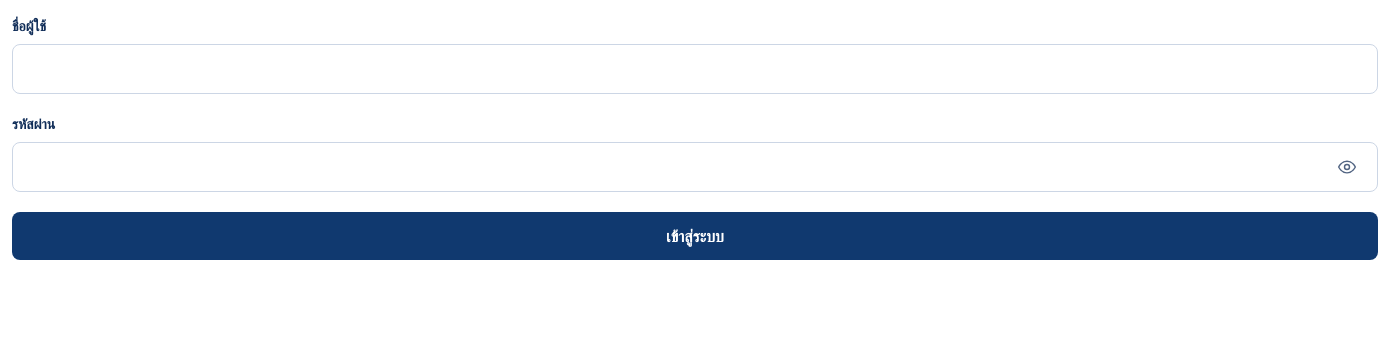
Test: keeps hospital controls absent while discovery is pending or fails
Type " synthetic-user " into the field labelled "ชื่อผู้ใช้" at x=695, y=69, box [27,45,1363,93]
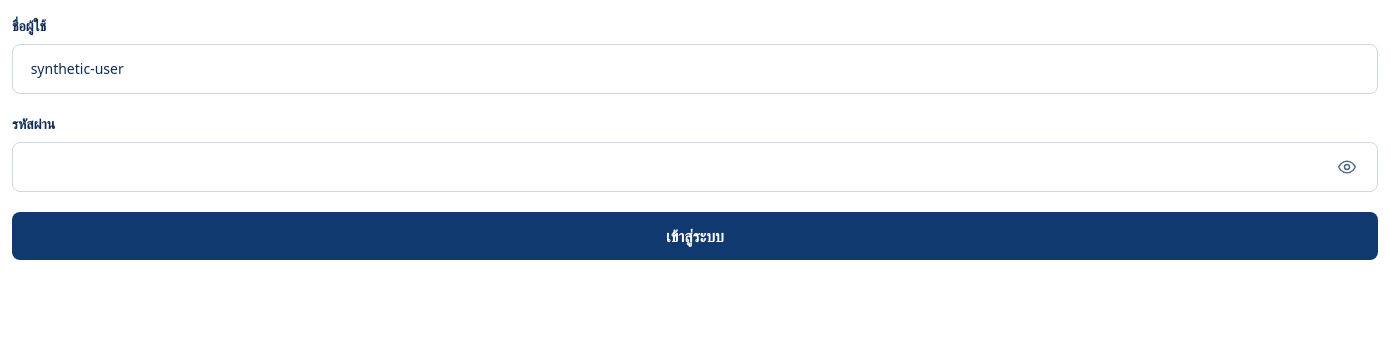
Type "synthetic-password" into the password field labelled "รหัสผ่าน" at x=673, y=167, box [27,143,1319,191]
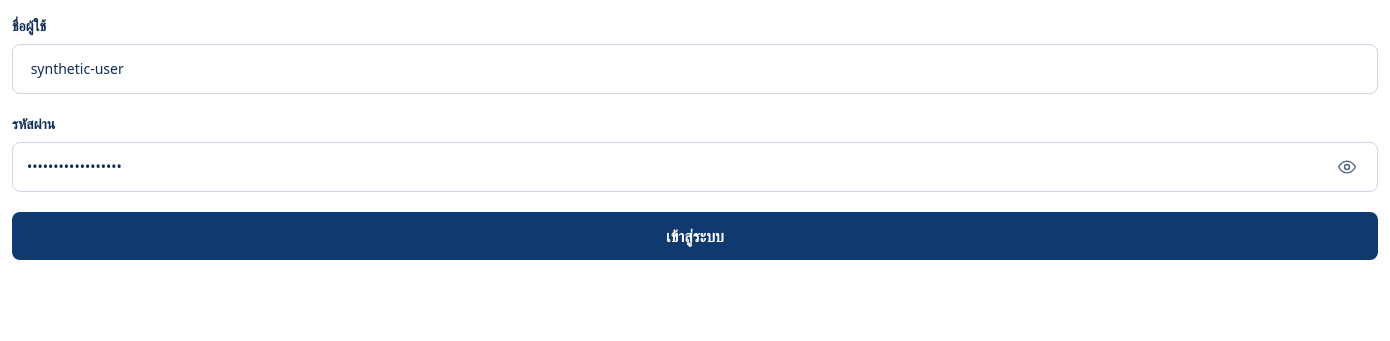
Submit the form
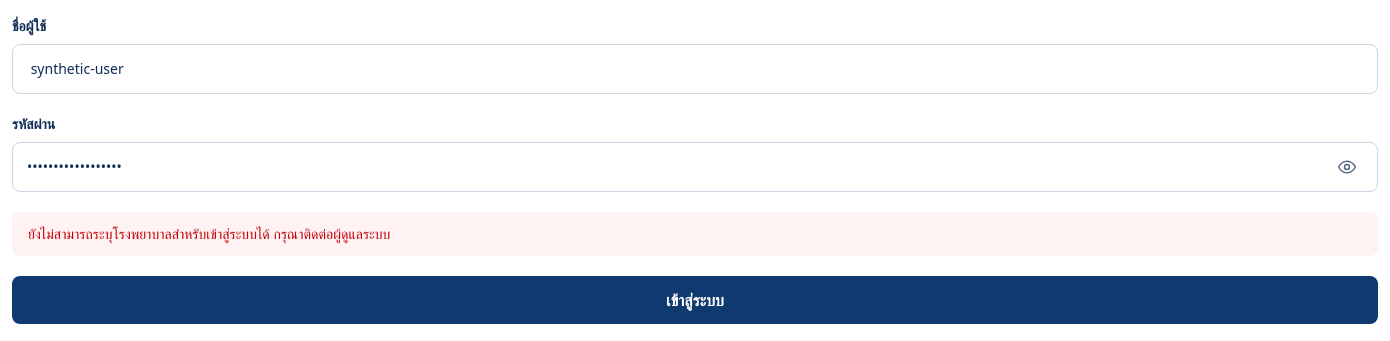
Check: the message reads "ยังไม่สามารถระบุโรงพยาบาลสำหรับเข้าสู่ระบบได้ กรุณาติดต่อผู้ดูแลระบบ", box [28,224,390,243]
